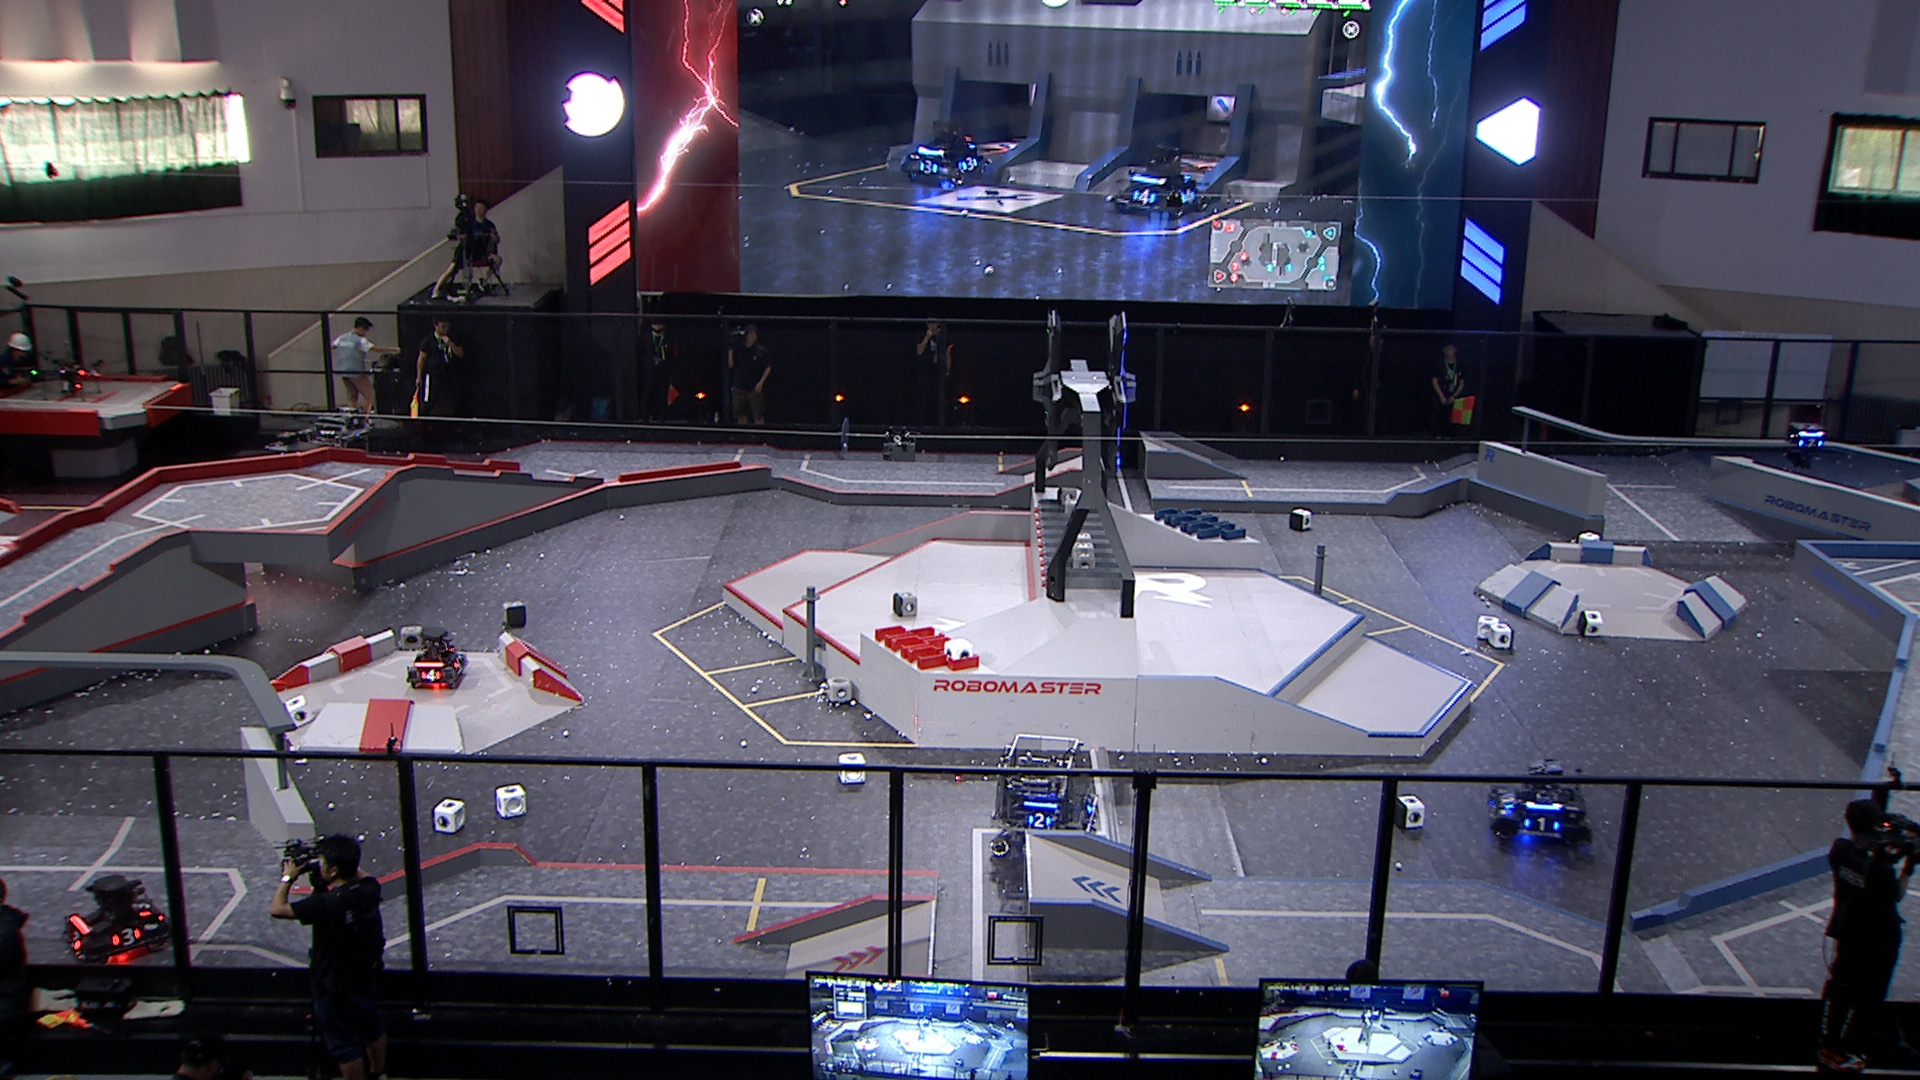armor: (1522, 815, 1565, 835), (112, 927, 144, 948), (1025, 812, 1054, 829), (131, 898, 153, 918), (69, 928, 83, 953), (419, 669, 442, 683), (1501, 793, 1516, 812), (1797, 438, 1822, 450), (452, 657, 465, 671)
car: (992, 735, 1102, 858), (61, 873, 174, 967), (1487, 757, 1594, 853), (297, 406, 378, 491), (256, 431, 334, 504), (406, 628, 465, 688)
ignore: (1110, 142, 1207, 219), (902, 120, 996, 187)
watcher: (1784, 419, 1826, 469)
